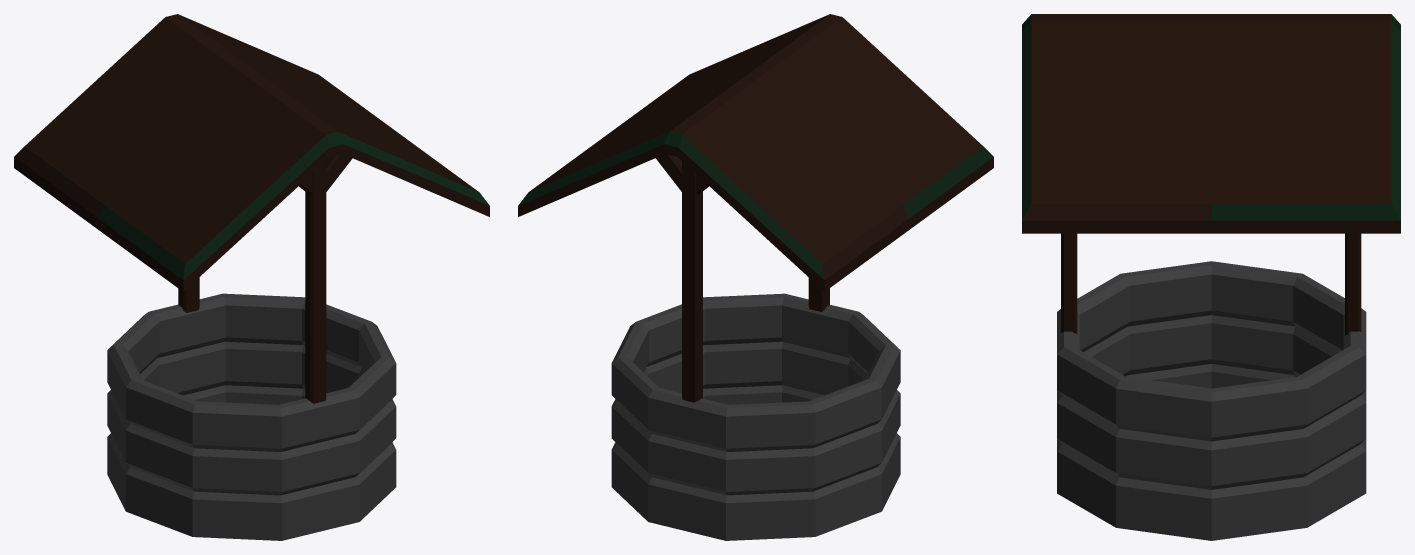
File: Well_FBX.fbx
3 renders of one model, left to right at view 1: azimuth 30°, elevation 25°; view 2: azimuth 150°, elevation 25°; view 3: azimuth 270°, elevation 25°, orthographic. The views are drawn at different scales.
Visible parts, largest first — view 1: Well_Stone, Well_Top, Well_Post02; view 2: Well_Stone, Well_Top, Well_Post01; view 3: Well_Top, Well_Stone, Well_Post01, Well_Post02.
Part boxes in pixels (<box>): Well_Stone: <box>107,293,396,540</box>; Well_Top: <box>14,14,489,291</box>; Well_Post02: <box>305,161,326,403</box>; Well_Stone: <box>611,293,900,540</box>; Well_Top: <box>518,14,993,291</box>; Well_Post01: <box>682,161,702,402</box>; Well_Top: <box>1022,14,1400,233</box>; Well_Stone: <box>1057,261,1366,540</box>; Well_Post01: <box>1345,233,1361,335</box>; Well_Post02: <box>1061,233,1077,333</box>.
Size of the model in its own units: 237 by 301 by 227.
